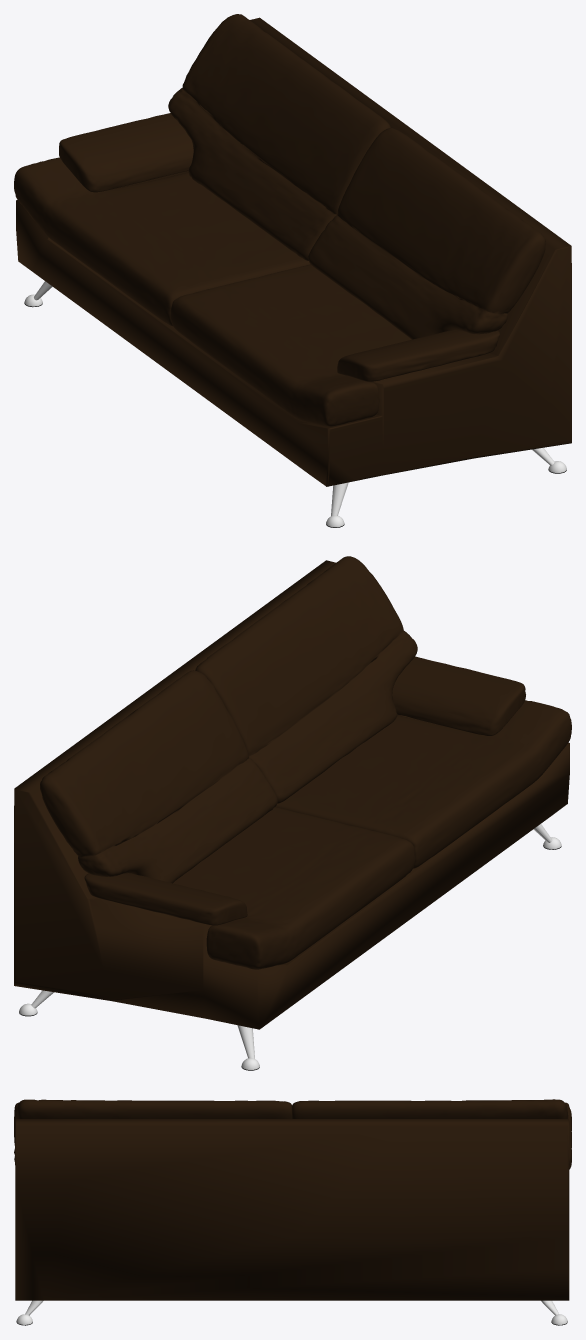
The model's file is sofa_2.glb.
3 renders of one model, top to bottom at view 1: azimuth 30°, elevation 25°; view 2: azimuth 150°, elevation 25°; view 3: azimuth 270°, elevation 25°, orthographic. The views are drawn at different scales.
Parts seen in each view (by area): view 1: espaldar sofa, sofa-base; view 2: espaldar sofa, sofa-base; view 3: espaldar sofa, sofa-base.
Part boxes in pixels (x1,y1,x2,y2): espaldar sofa: (14, 14, 571, 486); sofa-base: (24, 281, 566, 527); espaldar sofa: (14, 556, 571, 1029); sofa-base: (19, 824, 561, 1070); espaldar sofa: (14, 1099, 571, 1300); sofa-base: (16, 1300, 567, 1325).
Bounding box in the file's own units: 0.9124 × 0.8487 × 2.01.
